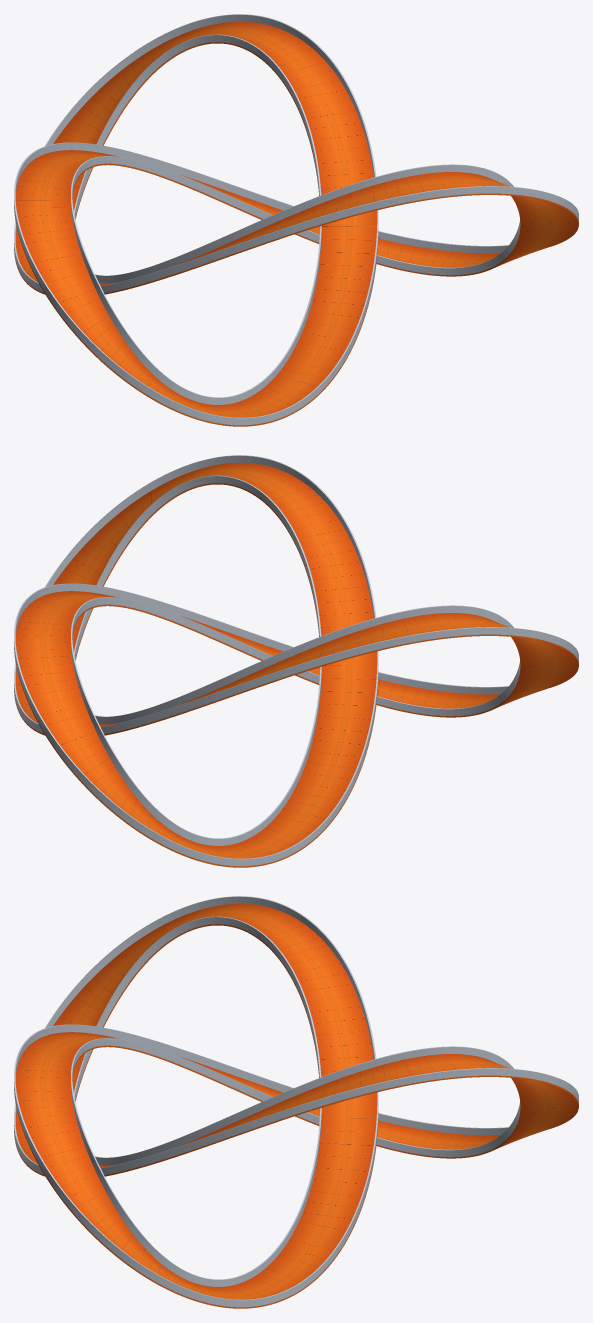
The model's file is multi-crossing-trefoil.glb.
3 views of the same model, one above another, from view 1: azimuth 30°, elevation 25°; view 2: azimuth 150°, elevation 25°; view 3: azimuth 270°, elevation 25° (orthographic).
Bounding box in the file's own units: 72.68 × 25.08 × 67.76.
Materials: 2 (1 with a texture image).
